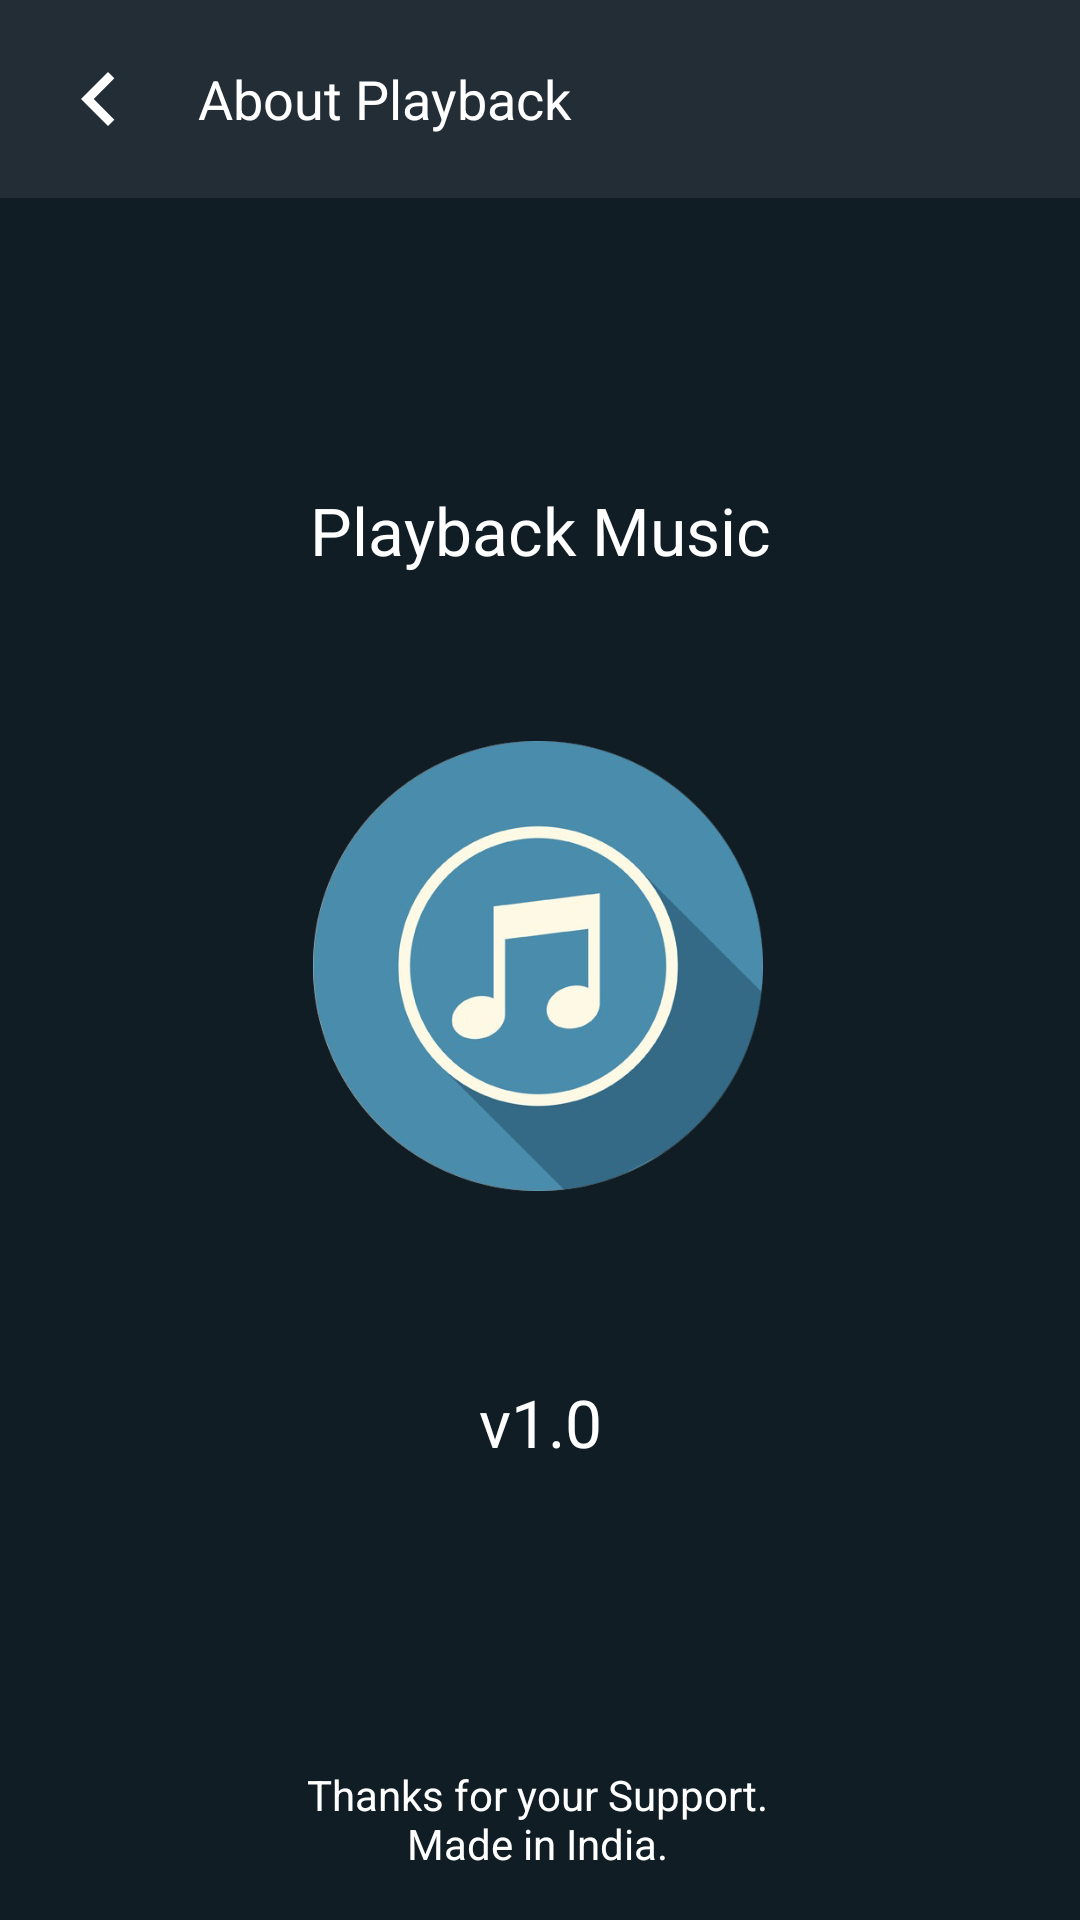

Icon bounding boxes for this 1080px x 1920px phone screenshot, format (x1, y1, x2, y2):
left: (81, 72, 115, 126)
